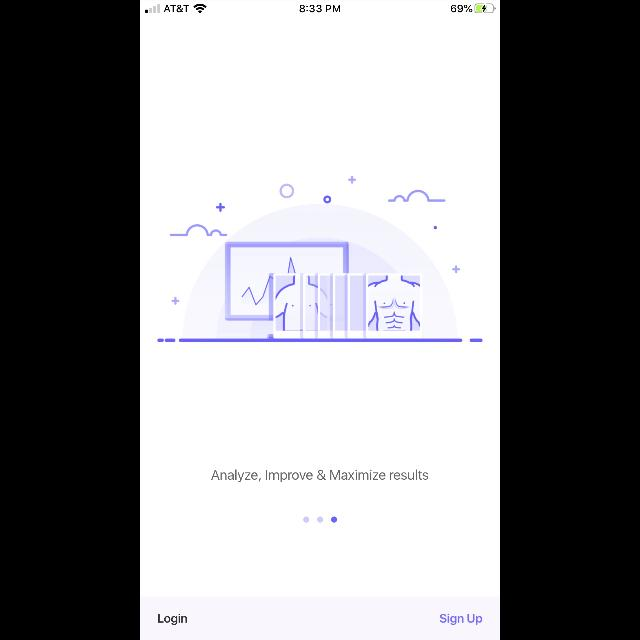image: (157, 175, 483, 342)
pageindicator: (303, 517, 337, 523)
text: (212, 470, 428, 482), (440, 613, 482, 625), (158, 614, 188, 624)
uppertaskbar: (140, 0, 500, 14)
